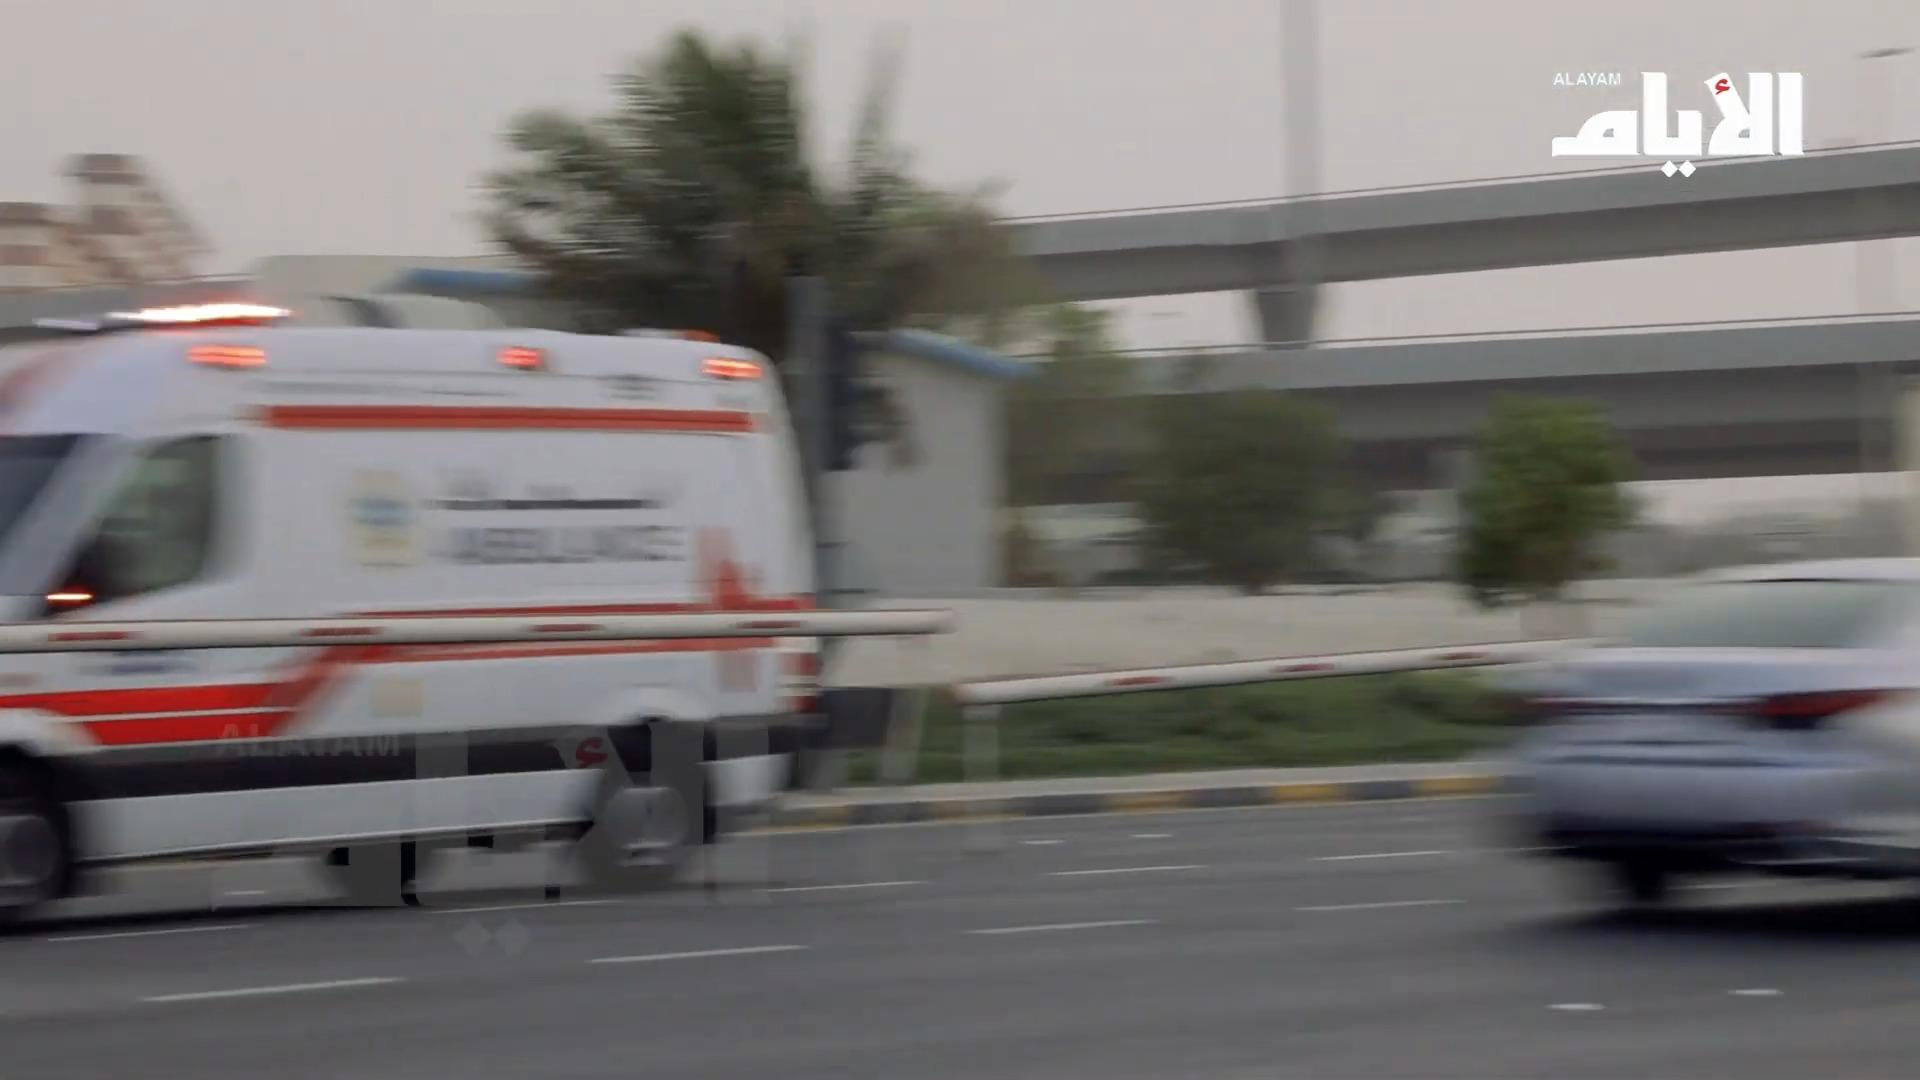ambulance_on: (3, 293, 825, 926)
